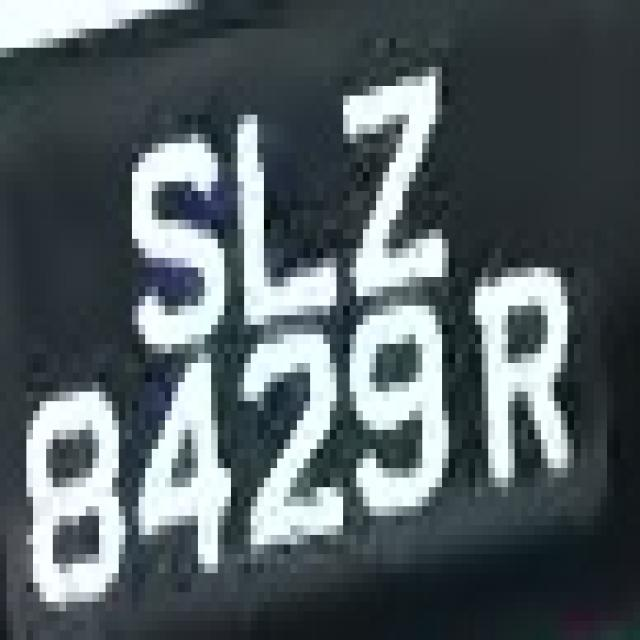2: (218, 306, 350, 573)
4: (119, 354, 238, 612)
8: (13, 363, 139, 602)
9: (330, 277, 455, 516)
L: (211, 95, 337, 325)
R: (442, 201, 600, 535)
S: (99, 105, 231, 373)
Z: (316, 48, 448, 325)
